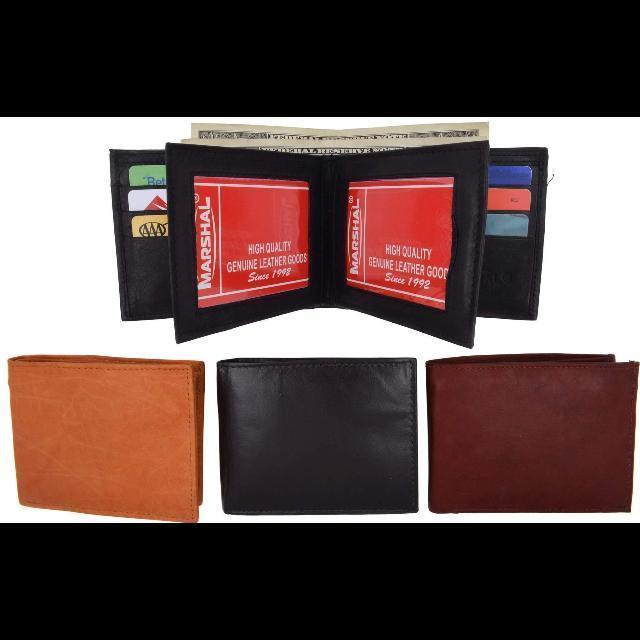wallet: (213, 352, 419, 522), (426, 350, 638, 514), (4, 350, 204, 522)
